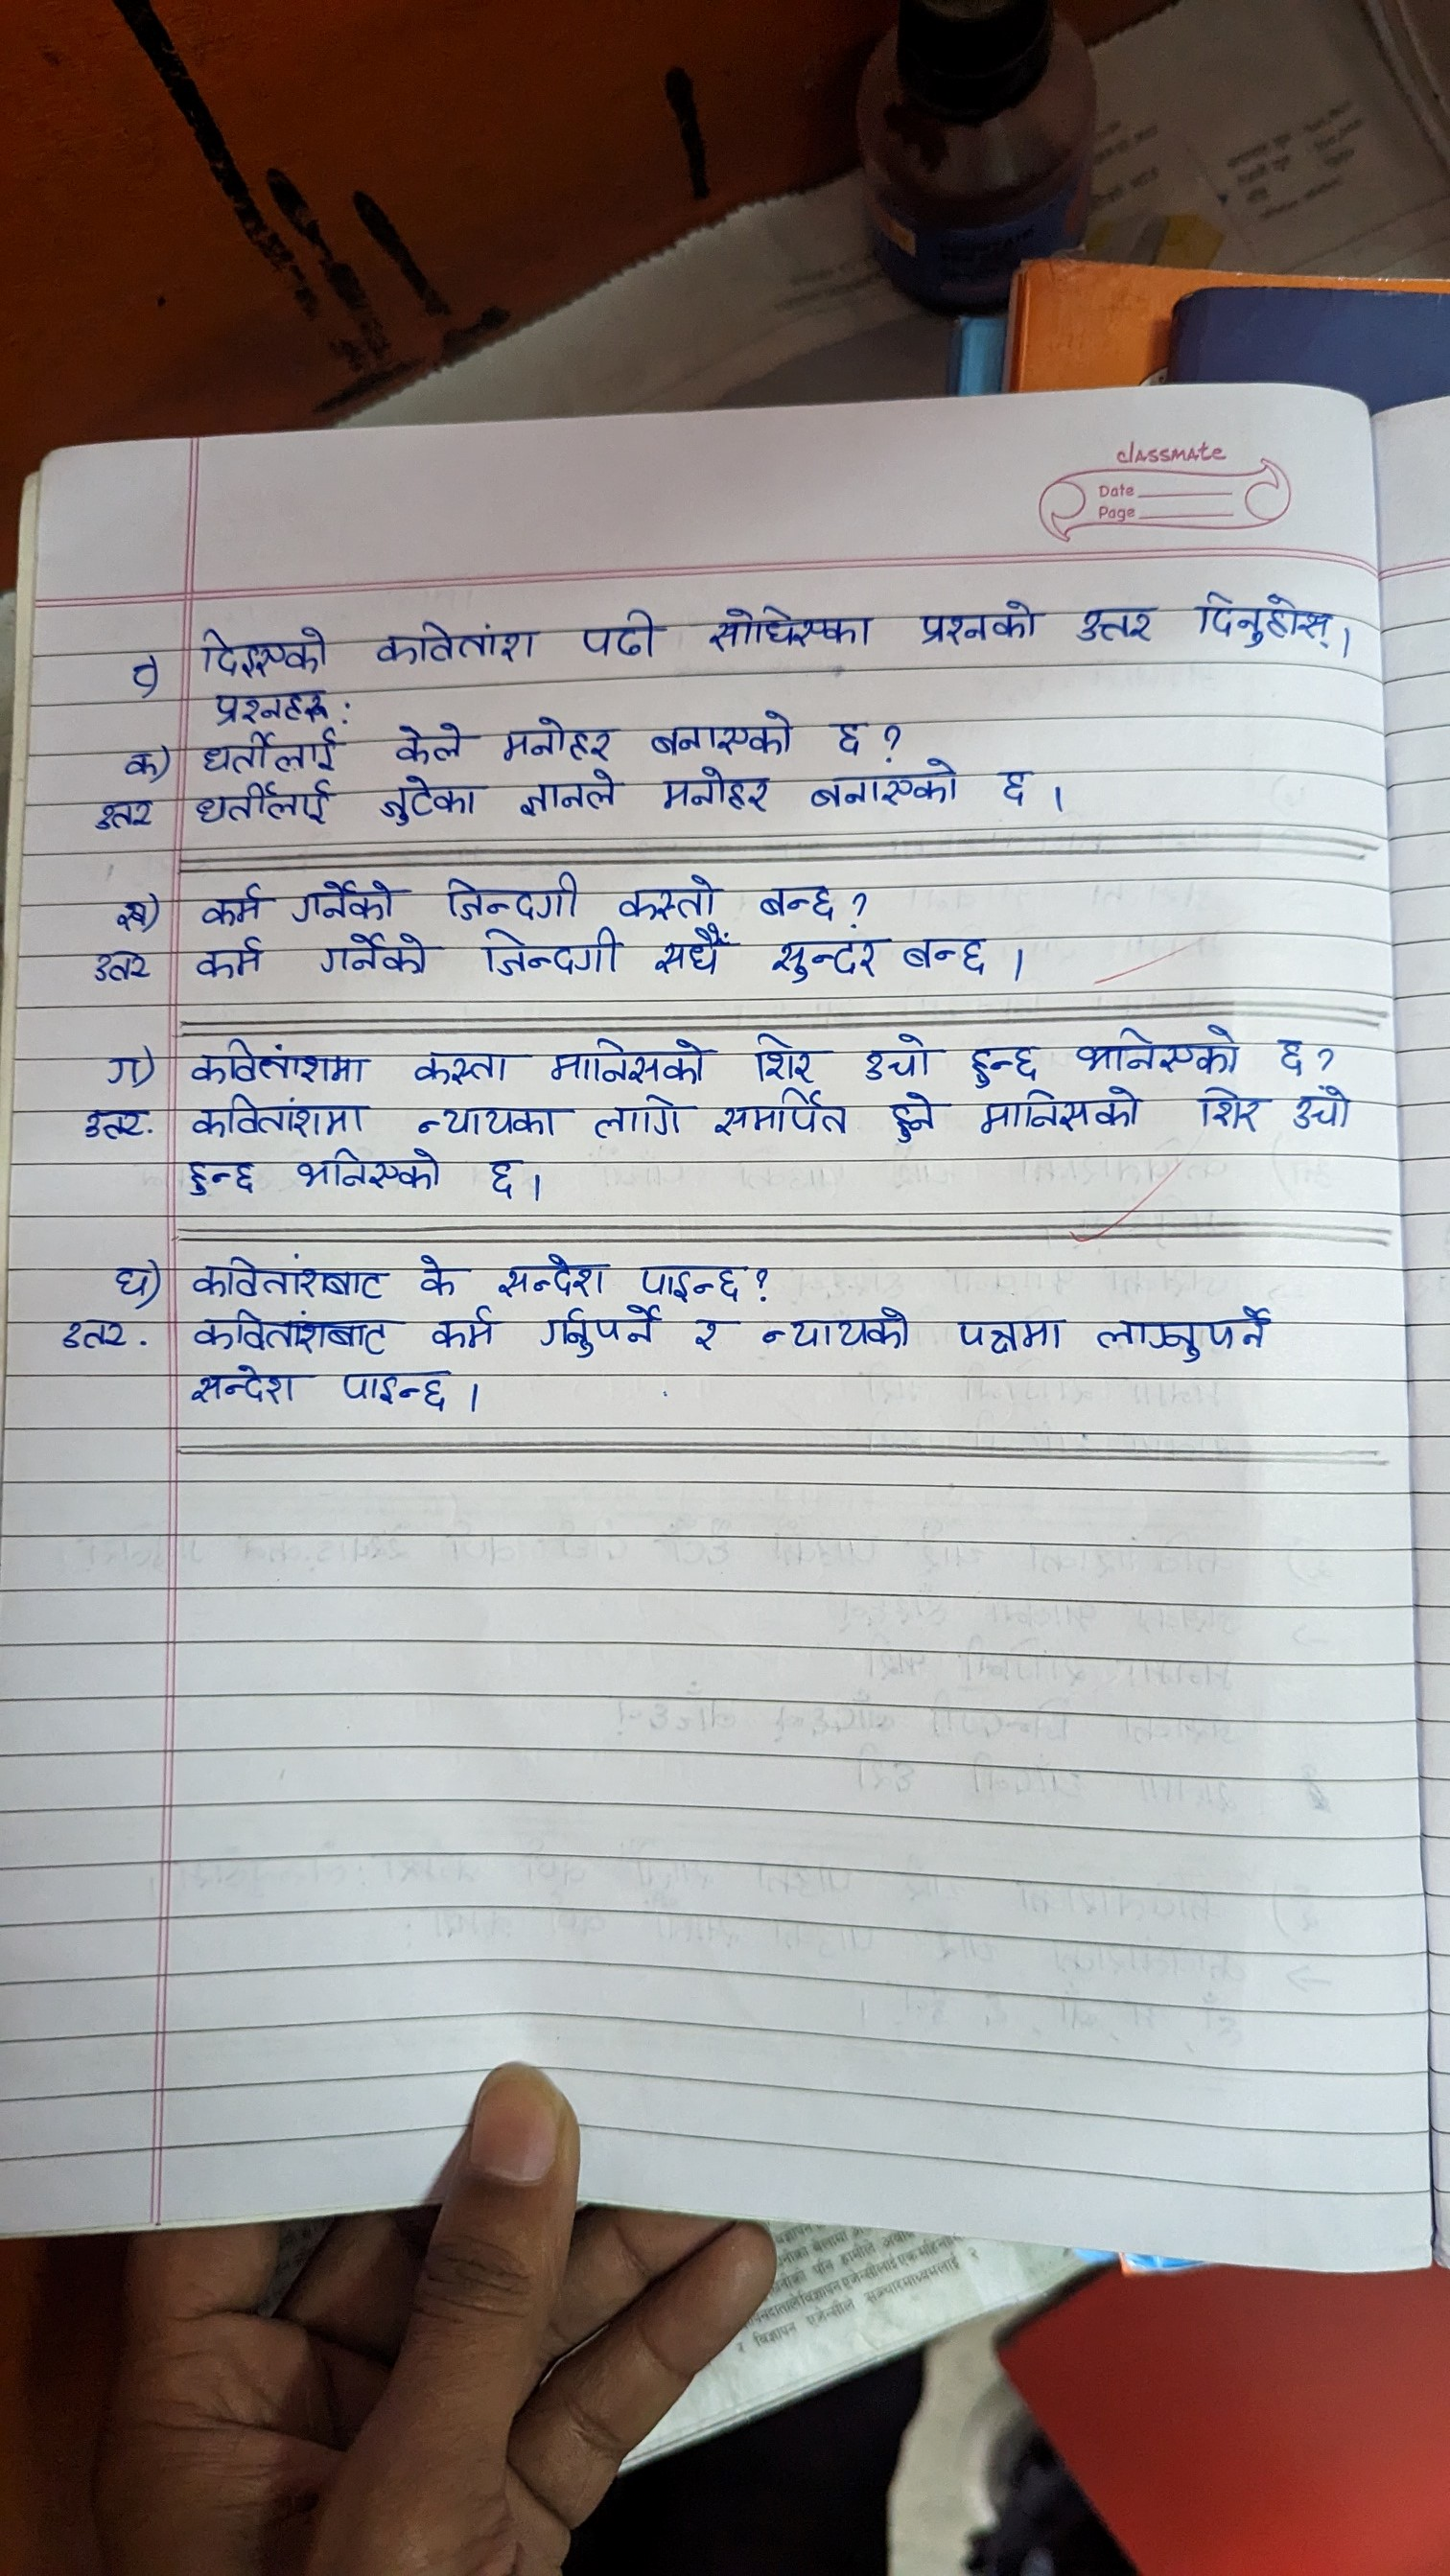text: (1190, 577, 1344, 662), (1094, 1299, 1266, 1371), (701, 598, 891, 662), (366, 610, 549, 669), (910, 579, 1048, 651), (182, 1307, 398, 1353), (182, 1254, 388, 1302), (184, 1033, 366, 1086), (809, 763, 979, 817), (976, 1086, 1140, 1143), (763, 1297, 914, 1359), (545, 1028, 706, 1085), (1069, 1024, 1236, 1077), (432, 865, 588, 922), (648, 706, 800, 761), (186, 1095, 365, 1141), (469, 931, 623, 984), (188, 780, 340, 833), (1057, 580, 1161, 656), (197, 621, 336, 678), (489, 709, 634, 763), (308, 931, 439, 989), (719, 1092, 846, 1150), (774, 931, 896, 991), (575, 602, 682, 669), (660, 764, 784, 821), (483, 1242, 614, 1295), (398, 1100, 567, 1141), (510, 764, 627, 823), (531, 1307, 662, 1359), (290, 1148, 441, 1192), (335, 1362, 459, 1415), (195, 731, 342, 775), (901, 924, 1011, 982), (613, 865, 724, 922), (951, 1311, 1069, 1364), (377, 771, 480, 830), (629, 1254, 751, 1302), (292, 878, 400, 929), (186, 1364, 306, 1410), (960, 1028, 1050, 1086), (586, 1090, 682, 1141), (843, 1026, 937, 1077), (50, 1307, 142, 1359), (646, 925, 728, 982), (1291, 1083, 1372, 1138), (742, 1030, 821, 1085), (752, 879, 850, 924), (209, 692, 336, 725), (186, 934, 274, 982), (1192, 1086, 1271, 1139), (189, 879, 271, 929), (411, 1046, 517, 1083), (384, 720, 474, 763), (883, 1086, 940, 1154), (175, 1155, 262, 1198), (81, 794, 163, 839), (119, 639, 168, 711), (73, 1102, 156, 1143), (99, 1253, 161, 1302), (430, 1309, 501, 1352), (986, 757, 1037, 816), (830, 697, 880, 757), (81, 950, 159, 987), (476, 1154, 528, 1205), (104, 890, 152, 938), (414, 1249, 459, 1300), (1268, 1030, 1308, 1079), (101, 1046, 143, 1092), (110, 747, 165, 782), (683, 1313, 726, 1357)
